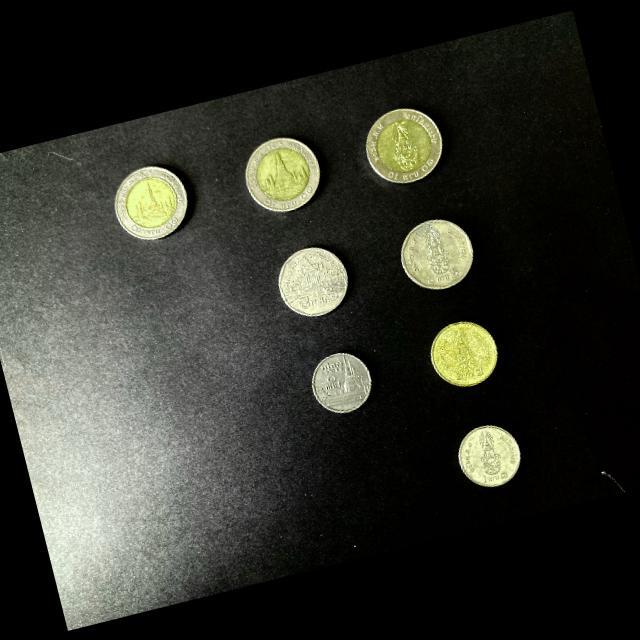1 Bath: (456, 423, 524, 491), (312, 350, 376, 417)
10 Bath: (364, 103, 446, 187), (244, 136, 324, 216), (117, 164, 193, 243)
2 Bath: (431, 319, 501, 390)
5 Bath: (401, 217, 477, 294), (279, 246, 351, 321)
